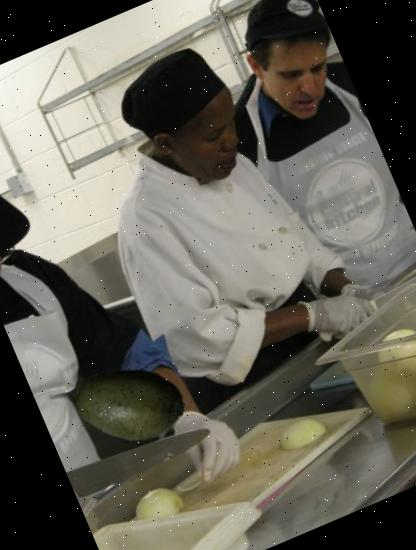Avocado: (58, 332, 200, 474)
